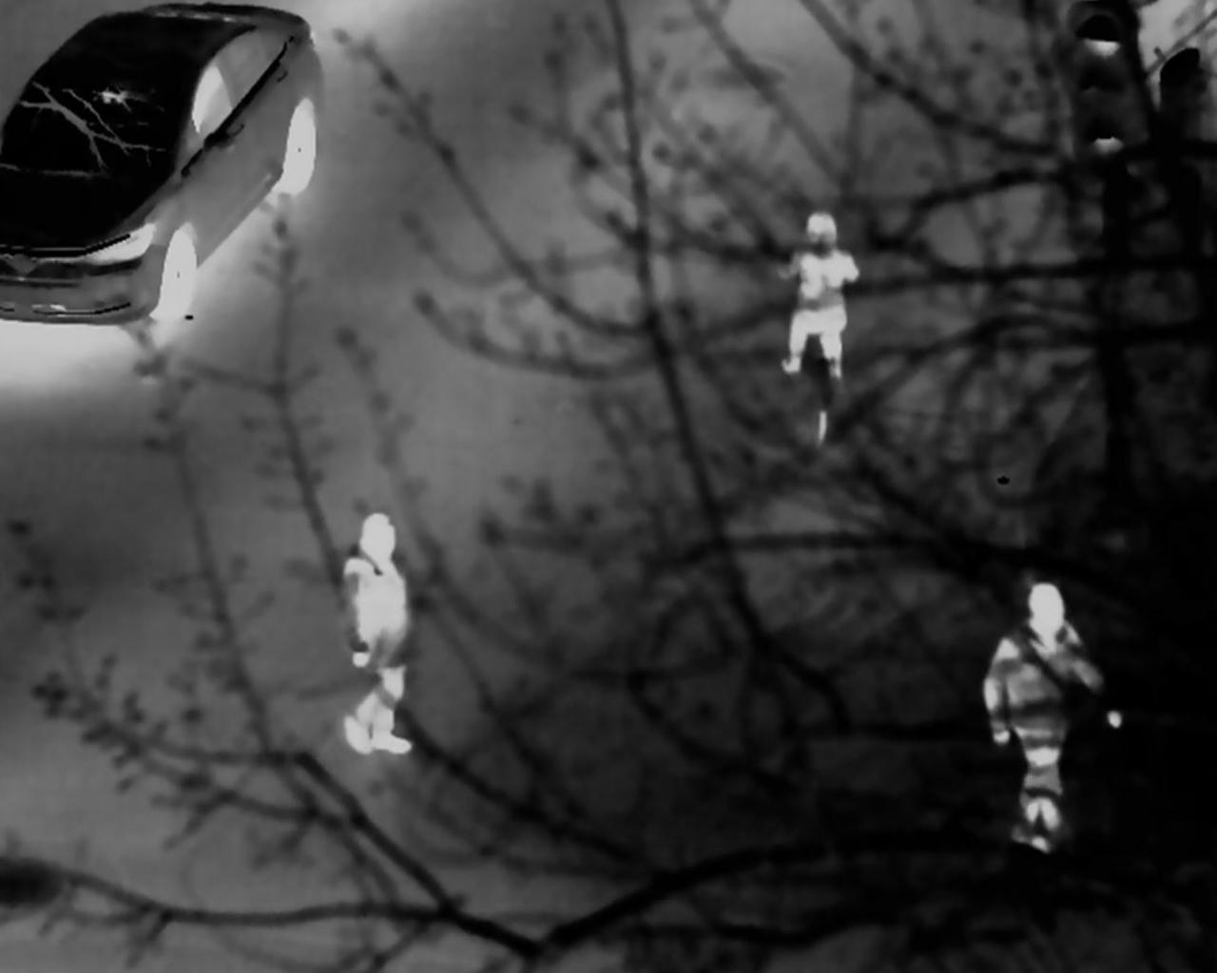person: (982, 585, 1105, 856), (772, 210, 863, 412), (342, 510, 410, 766)
